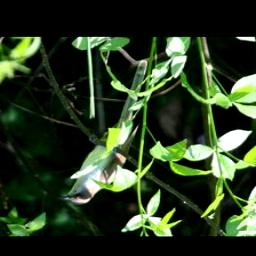Cuckoo: (57, 61, 149, 205)
